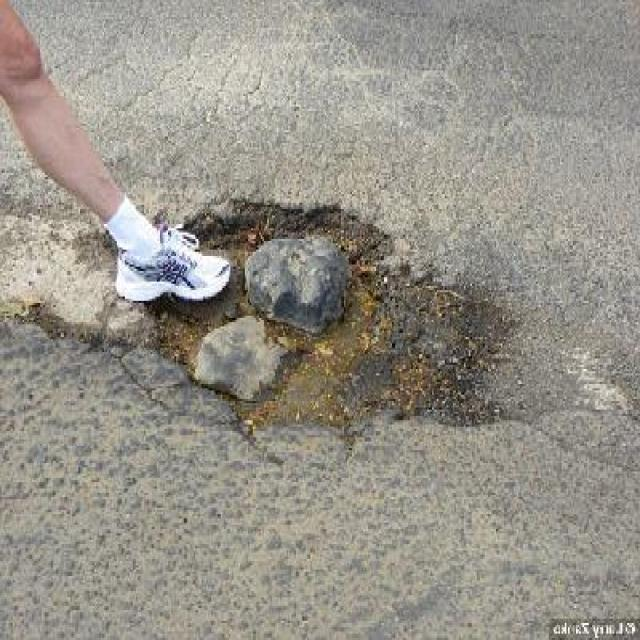pothole: (143, 194, 522, 435)
